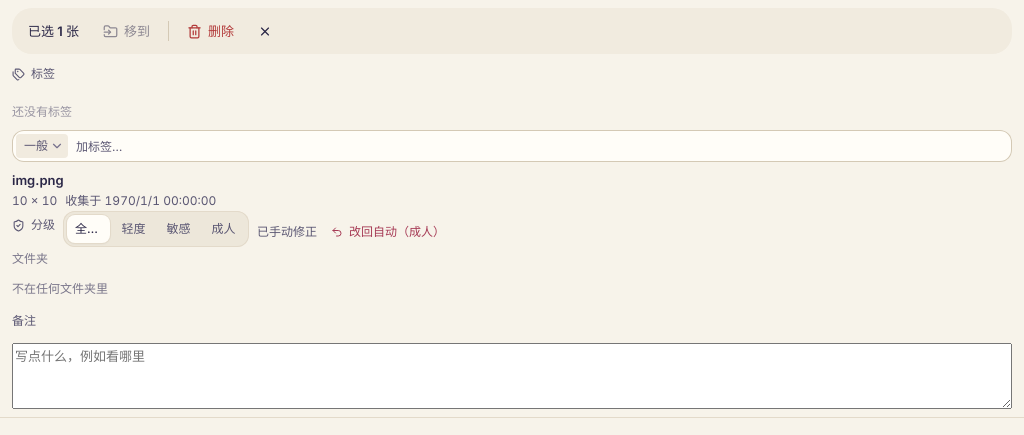
选中一张图：内容分级 › 改回自动即退回自动分级
Click the button "改回自动（成人）".
click(389, 232)  # box [323, 218, 455, 246]
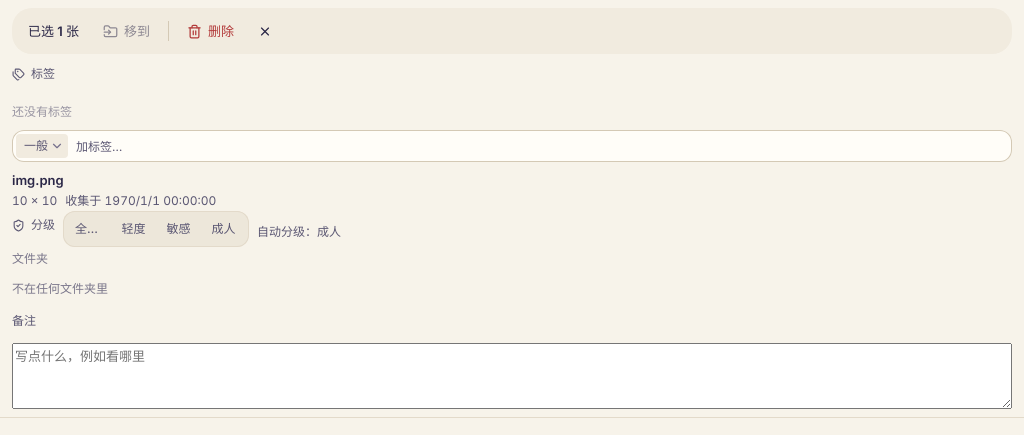
Expected: the text "已手动修正" is gone
